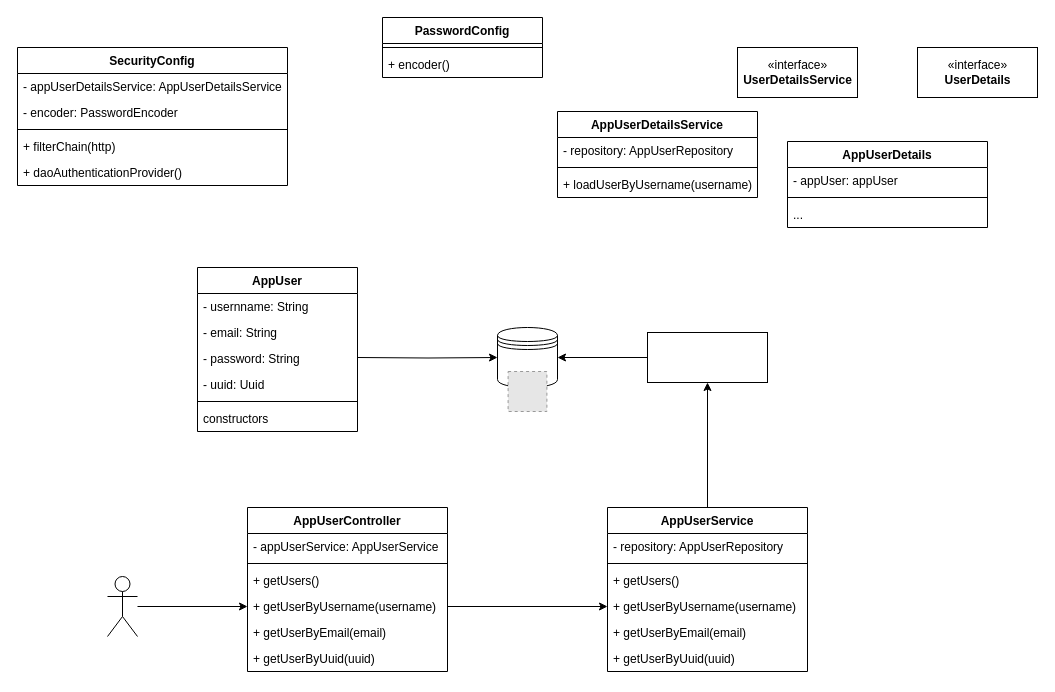
This 1055x692 diagram has some shape labels left out. Grey dashed boxes stand in for pictures. Each missing label, with the centre of its shape:
Actor: the point at 122,606
«interface» AppUserRepository: the point at 707,357
